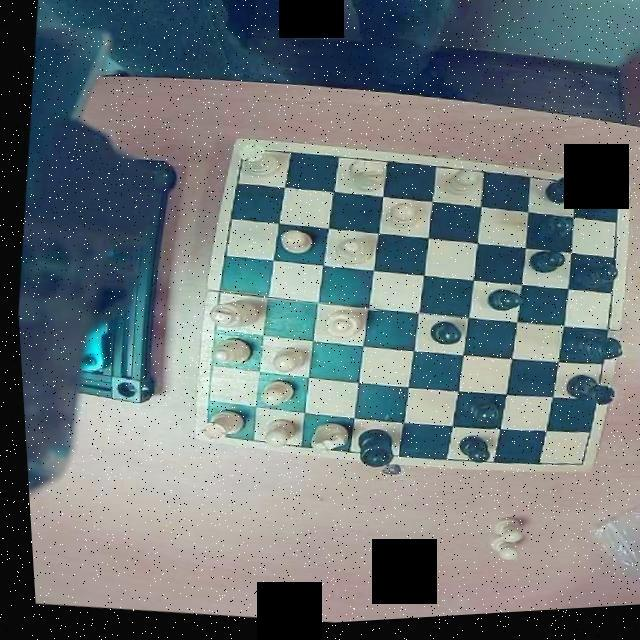chess-table-corners: (229, 144, 263, 179), (594, 188, 626, 220), (192, 410, 222, 444), (562, 454, 592, 482)
